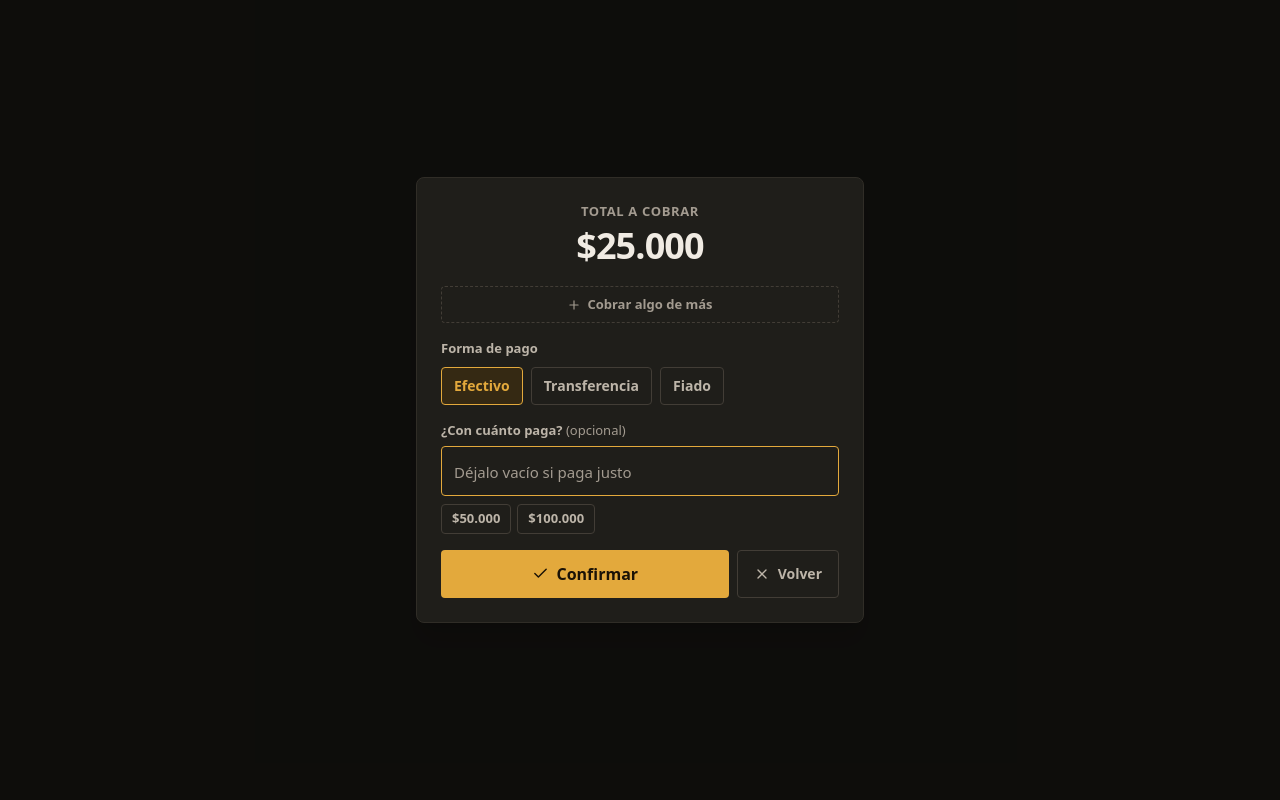
Test: el vuelto › se calcula bien
The width and height of the screenshot is (1280, 800).
Type "50000" into the field labelled "¿Con cuánto paga? (opcional)".
click(640, 471); type("50000")  # box [441,446,839,496]
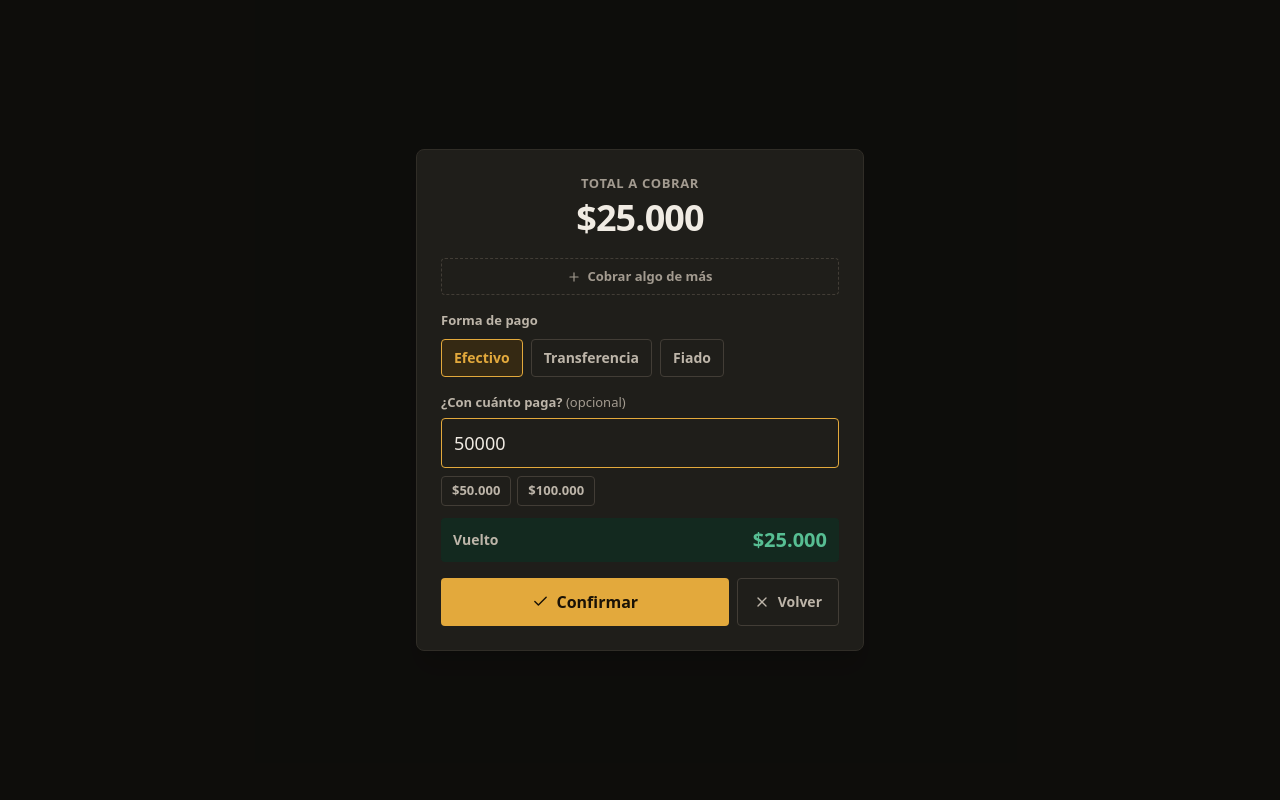
Now the text named "Vuelto" reads "$25.000", box [753,526,827,553]
